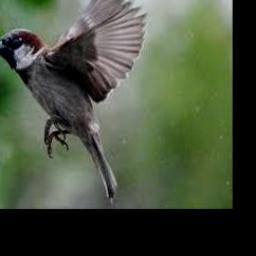Sparrow: (0, 0, 147, 201)
